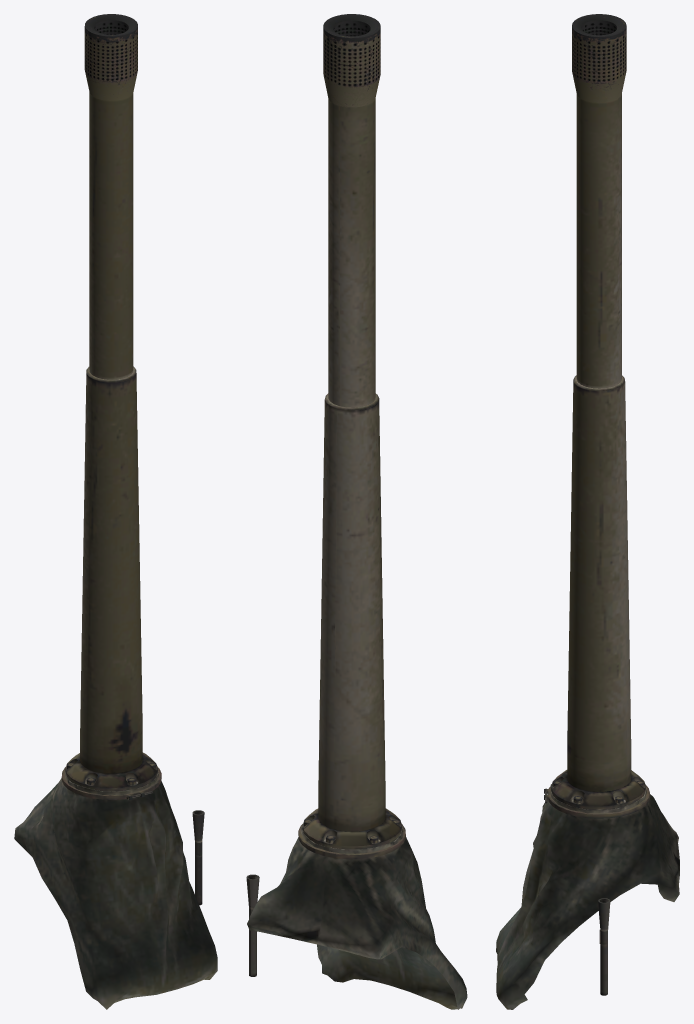
File: Gun_04.glb
The picture shows the model from 3 angles, left to right: view 1: azimuth 30°, elevation 25°; view 2: azimuth 150°, elevation 25°; view 3: azimuth 270°, elevation 25°; orthographic projection. The views are drawn at different scales.
Parts seen in each view (by area): view 1: set_0_group_0; view 2: set_0_group_0; view 3: set_0_group_0.
Part boxes in pixels (left/top/right/bottom): set_0_group_0: left=14, top=14, right=217, bottom=1009; set_0_group_0: left=246, top=14, right=467, bottom=1009; set_0_group_0: left=496, top=14, right=679, bottom=1009.
Bounding box in the file's own units: 0.6514 × 3.66 × 0.6362.
1 material, 1 textured.
